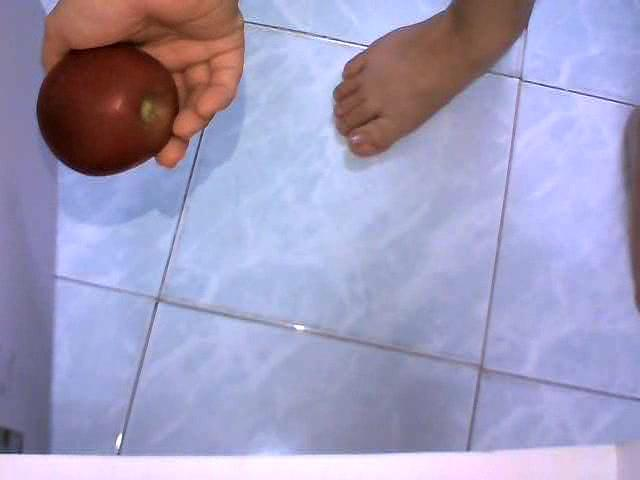apple: (35, 41, 180, 176)
